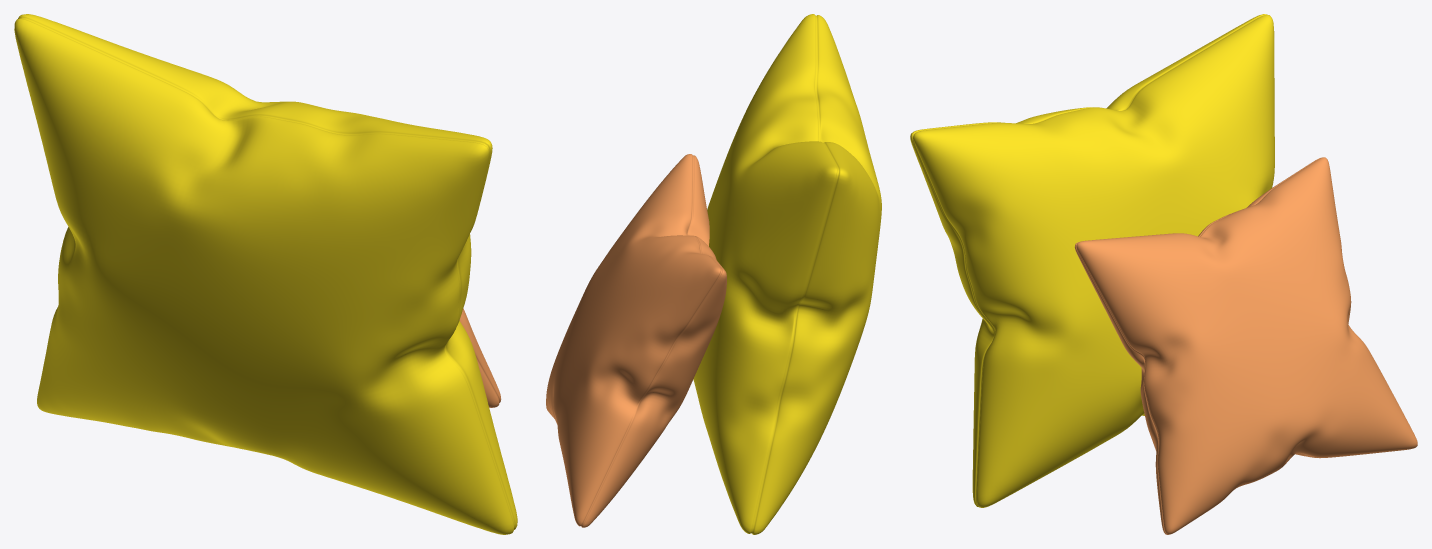
Rendered from coussins.gltf.
3 renders of one model, left to right at view 1: azimuth 30°, elevation 25°; view 2: azimuth 150°, elevation 25°; view 3: azimuth 270°, elevation 25°, orthographic. The views are drawn at different scales.
Visible parts, largest first — view 1: Plane.003, Plane.002; view 2: Plane.003, Plane.002; view 3: Plane.003, Plane.002.
Boxes of the visible parts, left/top/right/bottom form: Plane.003: left=14, top=14, right=517, bottom=534; Plane.002: left=459, top=308, right=501, bottom=407; Plane.003: left=693, top=14, right=881, bottom=534; Plane.002: left=546, top=154, right=726, bottom=527; Plane.003: left=910, top=14, right=1274, bottom=507; Plane.002: left=1074, top=157, right=1417, bottom=534.
Size of the model in its own units: 0.1167 by 0.1205 by 0.1491.
